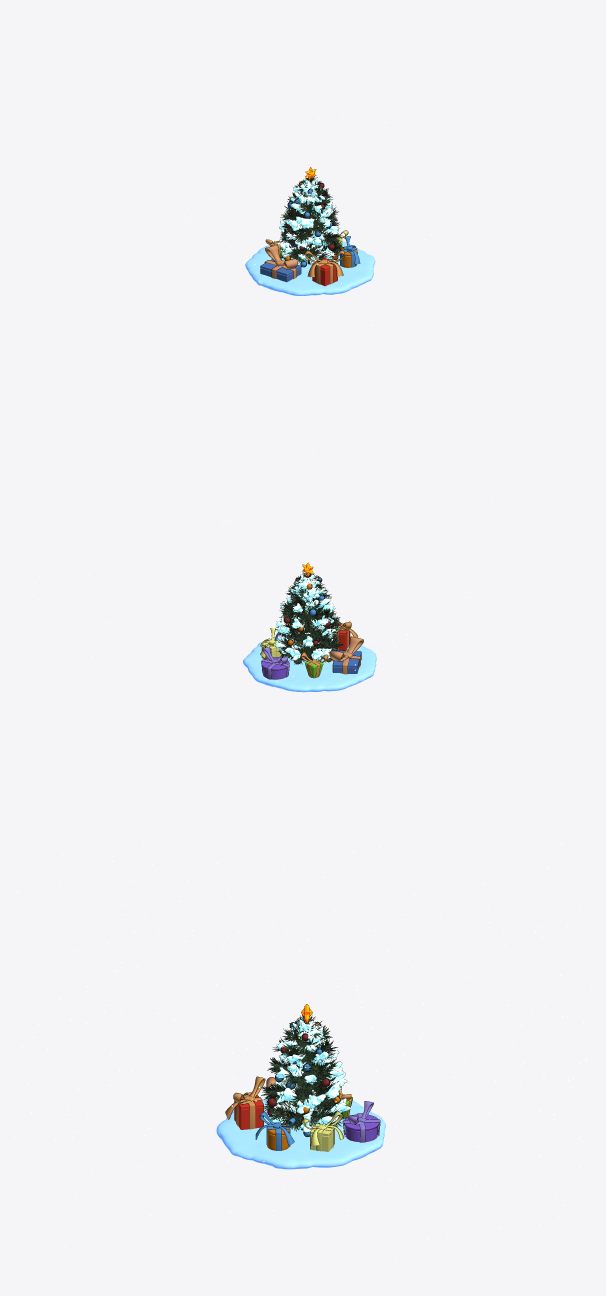
File: xmastree1.glb
The picture shows the model from 3 angles, top to bottom: view 1: azimuth 30°, elevation 25°; view 2: azimuth 150°, elevation 25°; view 3: azimuth 270°, elevation 25°; orthographic projection. The views are drawn at different scales.
Visible parts, largest first — view 1: SnowBall.002_355, leaves_30, SnowBall.001_29; view 2: SnowBall.002_355, leaves_30, SnowBall.001_29; view 3: SnowBall.002_355, leaves_30, SnowBall.001_29.
Boxes of the visible parts, box(x1,y1,x2,y2) form: SnowBall.002_355: box(245, 241, 375, 295); leaves_30: box(280, 176, 344, 263); SnowBall.001_29: box(277, 178, 338, 265); SnowBall.002_355: box(243, 637, 376, 692); leaves_30: box(275, 572, 342, 664); SnowBall.001_29: box(275, 574, 339, 660); SnowBall.002_355: box(216, 1098, 385, 1169); leaves_30: box(261, 1014, 343, 1131); SnowBall.001_29: box(272, 1017, 351, 1132).
Bounding box in the file's own units: 38.68 × 17.72 × 38.77.
23 materials, 2 textured.
